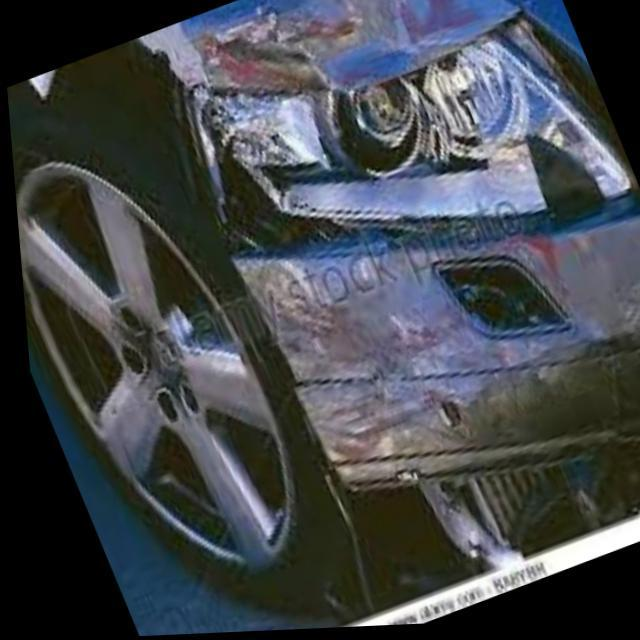dent: (120, 16, 640, 569)
